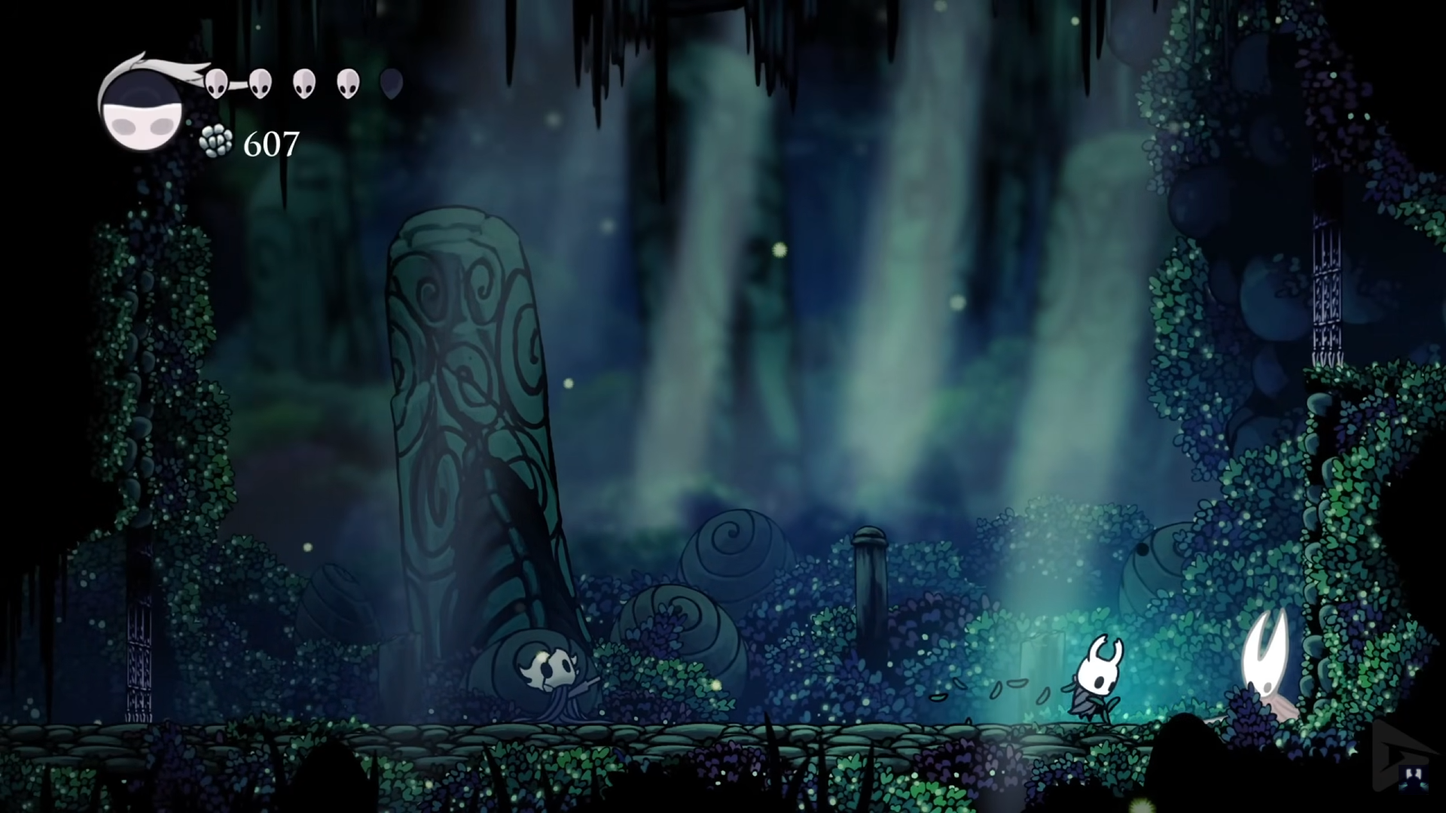HK: (1068, 634, 1125, 729)
